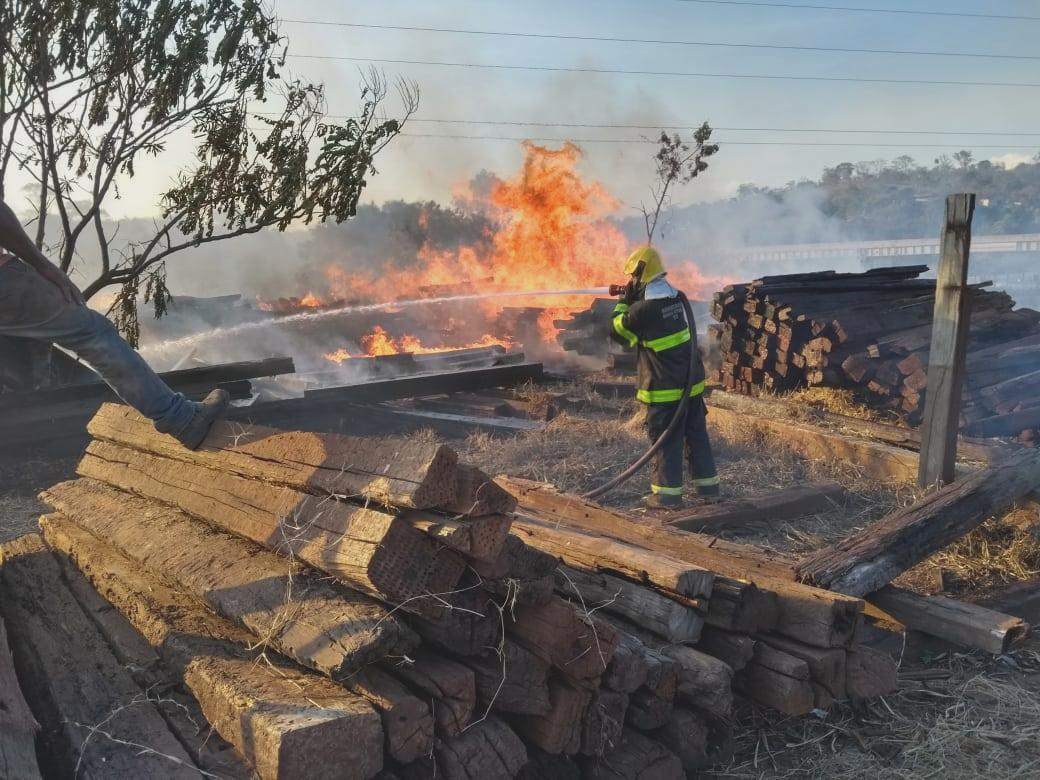Fire: (339, 150, 714, 303), (331, 334, 511, 358)
